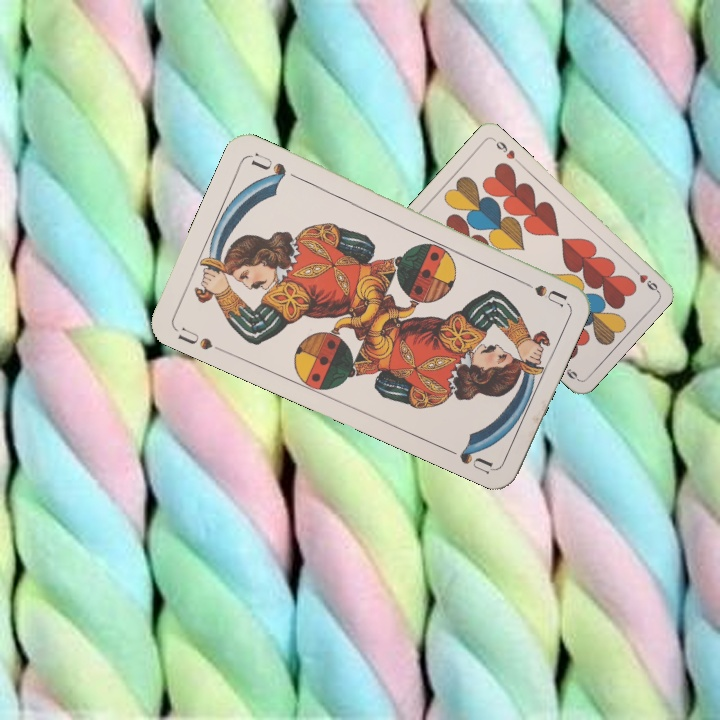H9: (627, 262, 661, 294)
SU: (511, 273, 569, 308), (173, 323, 215, 353)
